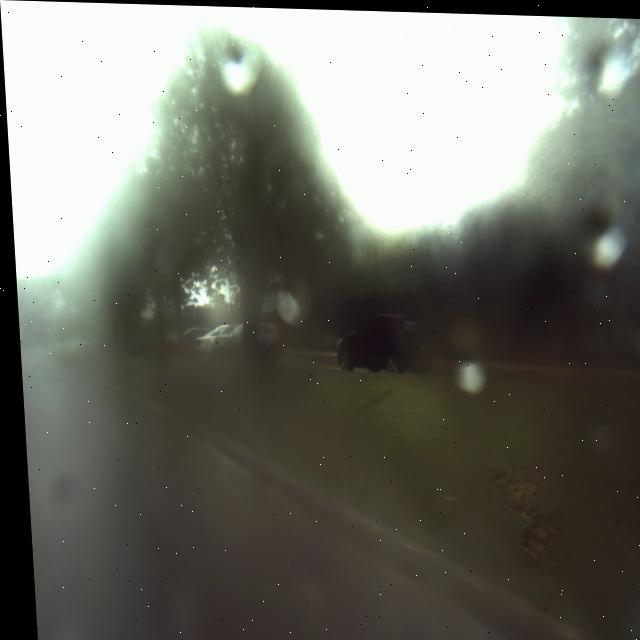car: (324, 302, 430, 380)
